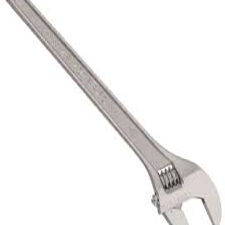Wrench: (4, 1, 225, 225)
